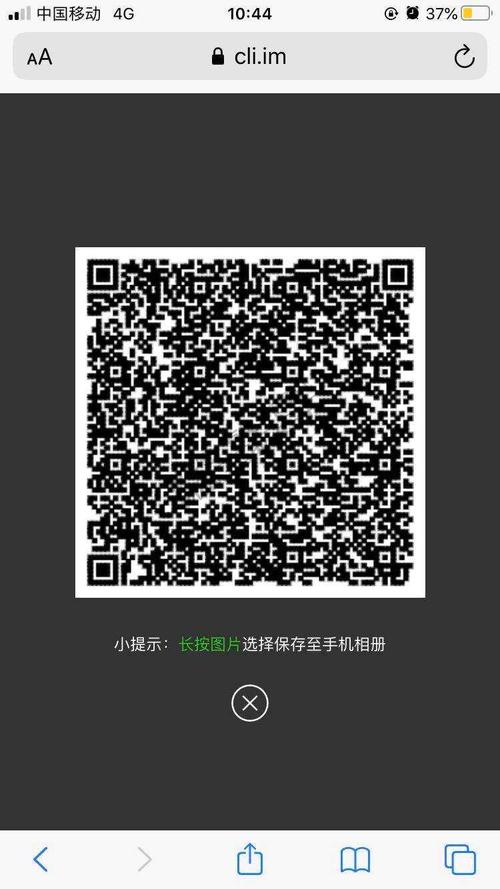QRCode: (79, 252, 421, 597)
